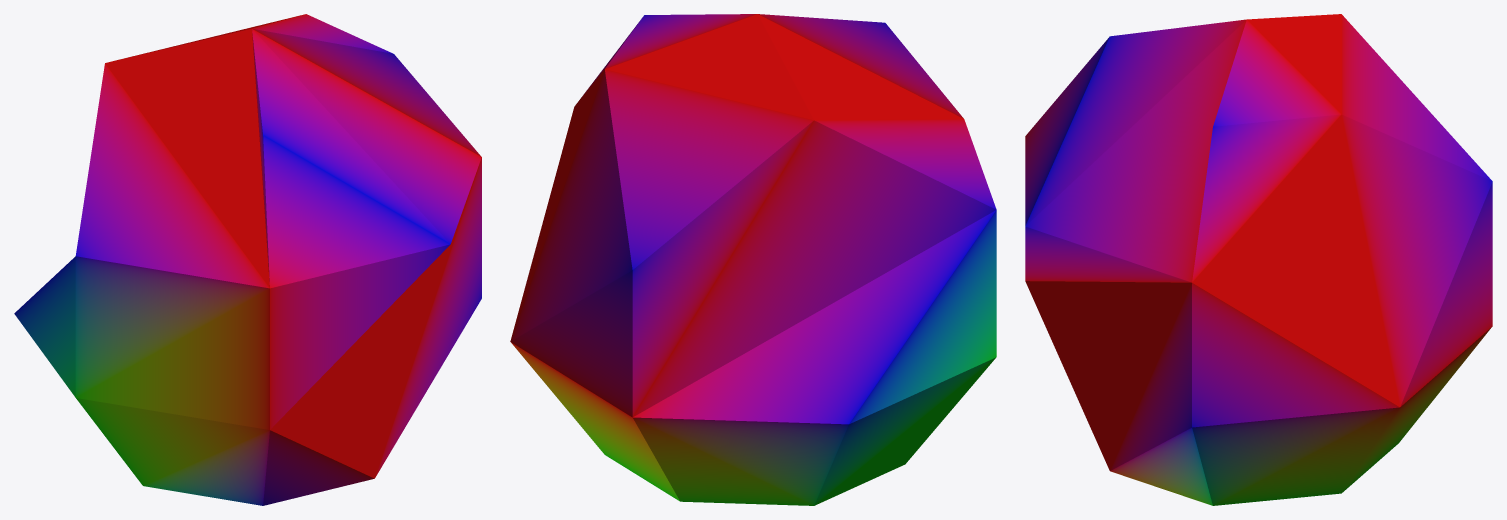
The model's file is after_decimating_conquest_1_10.obj.
3 views of the same model, side by side, from view 1: azimuth 30°, elevation 25°; view 2: azimuth 150°, elevation 25°; view 3: azimuth 270°, elevation 25° (orthographic). The views are drawn at different scales.
Bounding box in the file's own units: 1.85 × 2 × 1.81.
